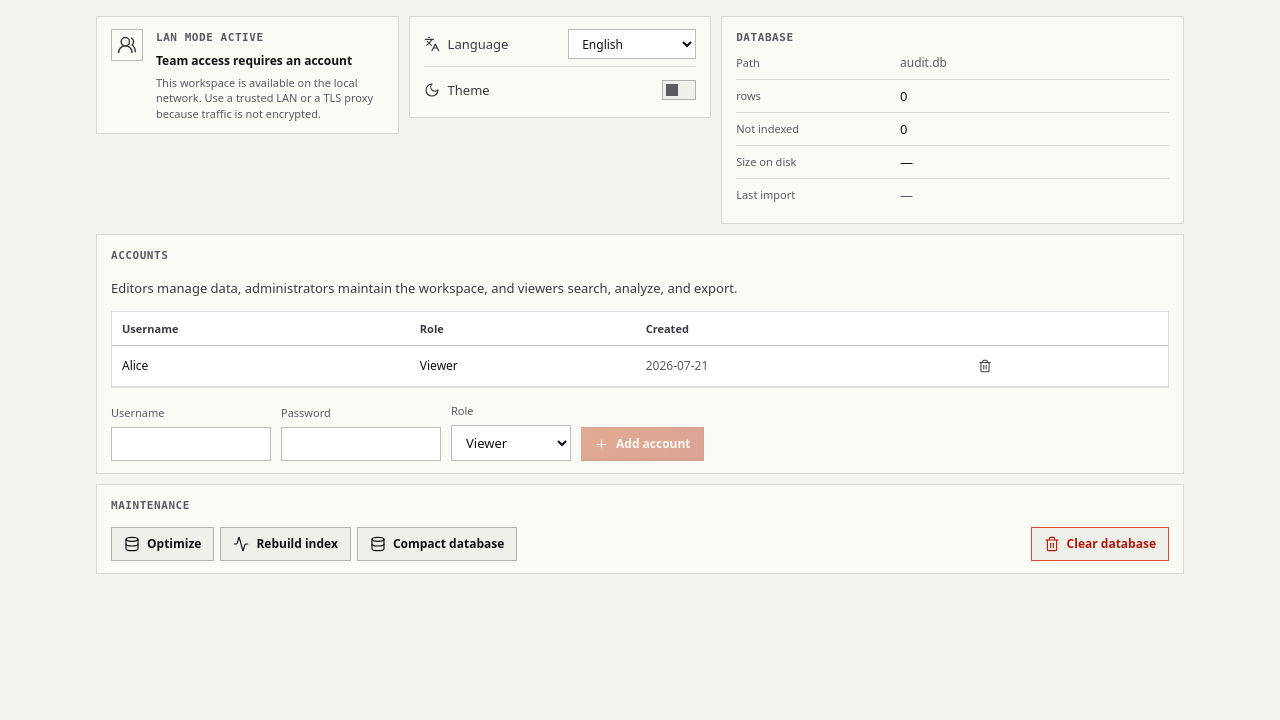
Settings workspace mode › blocks an existing account name instead of sending an ambiguous create
Expected: the text "Alice" is shown, top-left (112, 346), bottom-right (410, 387)
Type "alice" into the field labelled "Username" at (191, 444), box top-left (111, 427), bottom-right (271, 461)
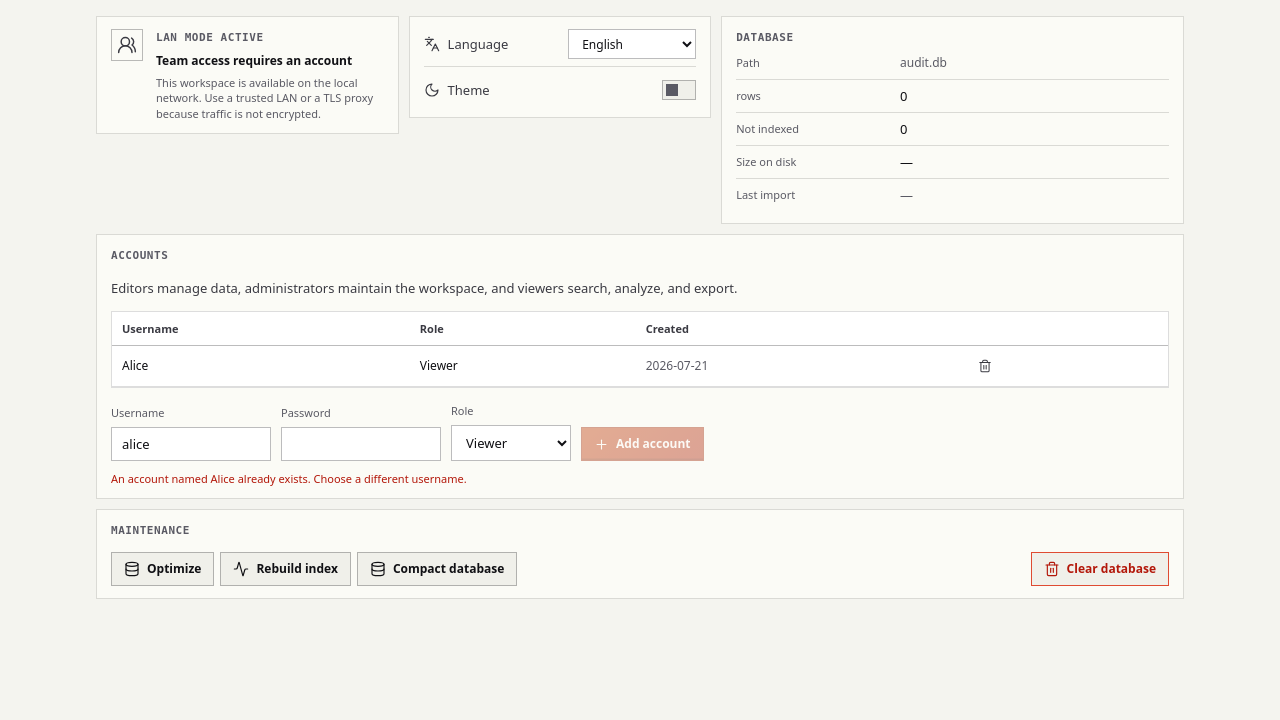
Expected: the button "Add account" is disabled, top-left (581, 427), bottom-right (704, 461)
Expected: the text "An account named Alice already exists. Choose a different username." is shown, top-left (111, 471), bottom-right (467, 486)
